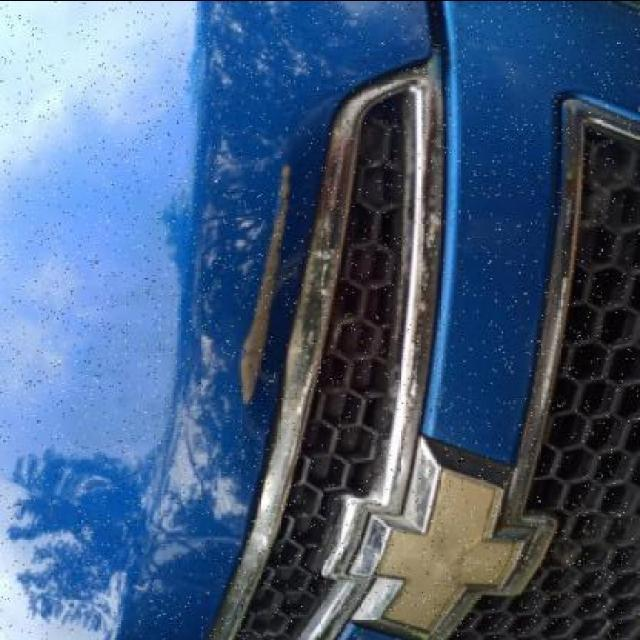bonnet-dent: (0, 2, 411, 640)
